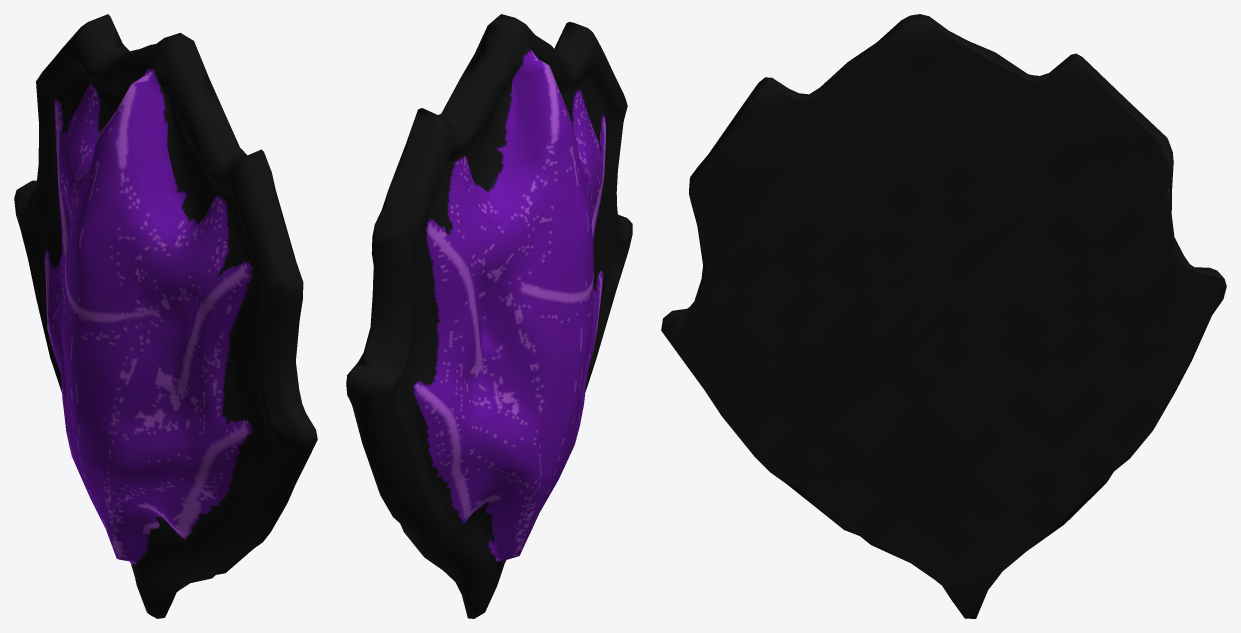
Rendered from Shield.glb.
3 renders of one model, left to right at view 1: azimuth 30°, elevation 25°; view 2: azimuth 150°, elevation 25°; view 3: azimuth 270°, elevation 25°, orthographic. The views are drawn at different scales.
Parts seen in each view (by area): view 1: Shield; view 2: Shield; view 3: Shield.
Boxes of the visible parts, box(x1,y1,x2,y2) form: Shield: box(14, 14, 317, 618); Shield: box(346, 14, 632, 618); Shield: box(661, 14, 1226, 618).
Size of the model in its own units: 0.00916 by 0.0511 by 0.0438.
Materials: 1 (1 with a texture image).
